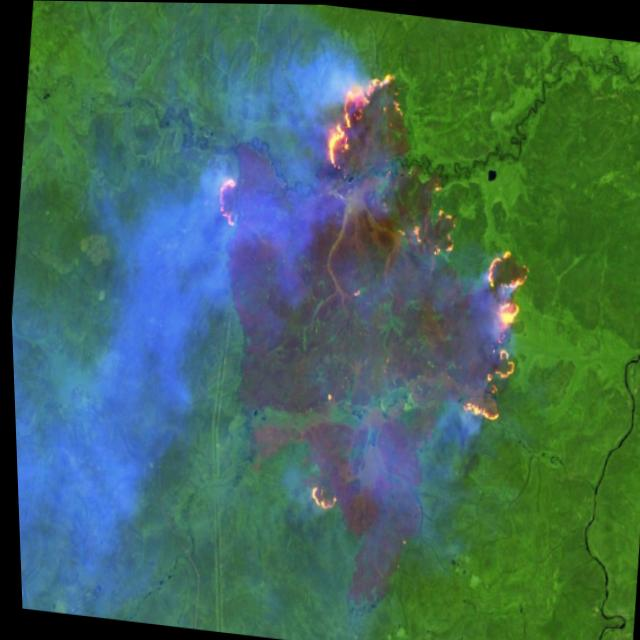fire: (176, 45, 559, 534)
